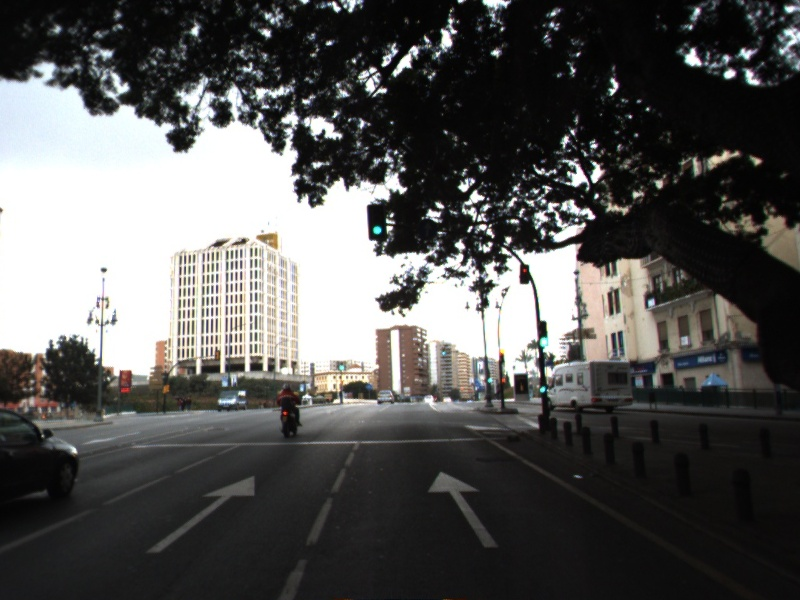STRAIGHT: (143, 473, 259, 556), (424, 469, 503, 551)
